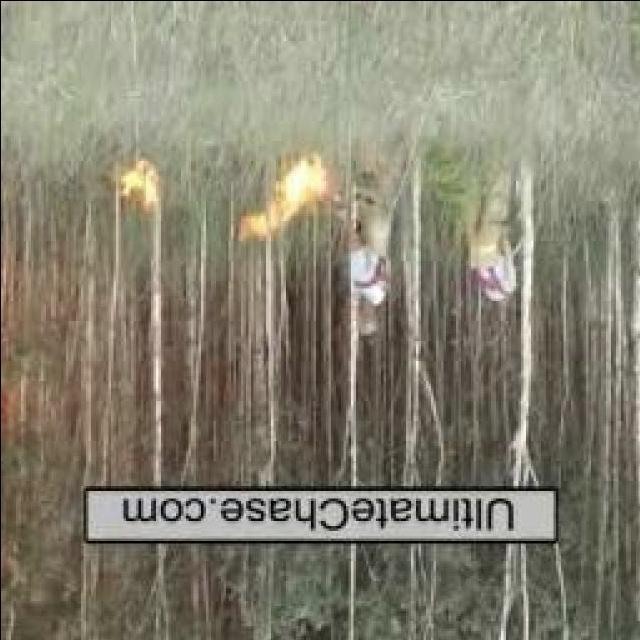Fire: (235, 150, 332, 238), (108, 154, 157, 206)
